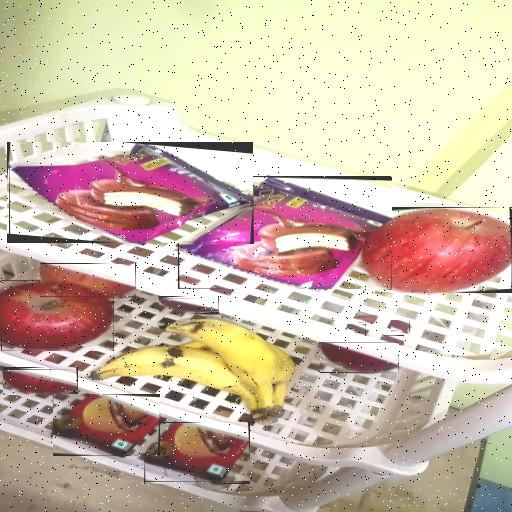Apple: (363, 209, 512, 292), (1, 282, 114, 350), (40, 264, 135, 297), (320, 343, 398, 373), (3, 370, 78, 393), (159, 299, 219, 313), (382, 335, 403, 345), (391, 321, 410, 331), (359, 315, 377, 323), (347, 325, 365, 332)
Choco Fills: (53, 394, 160, 456), (144, 423, 248, 482)
Choco Pie: (9, 144, 253, 243), (179, 177, 392, 289)
